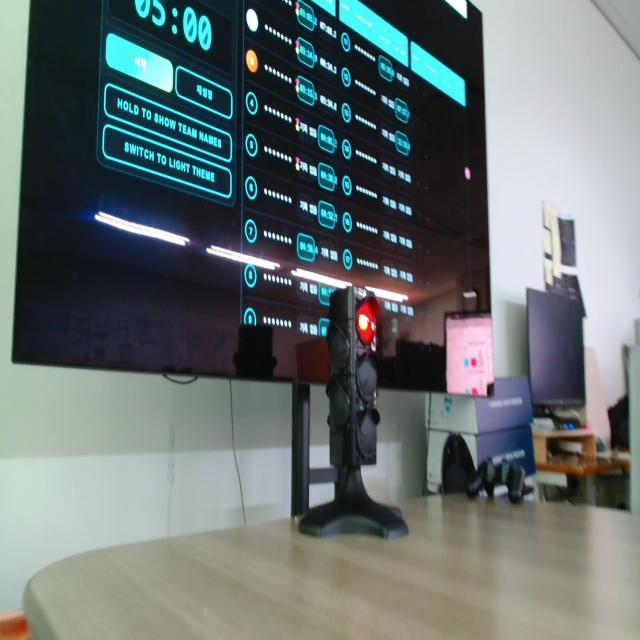red_light: (357, 297, 379, 346)
